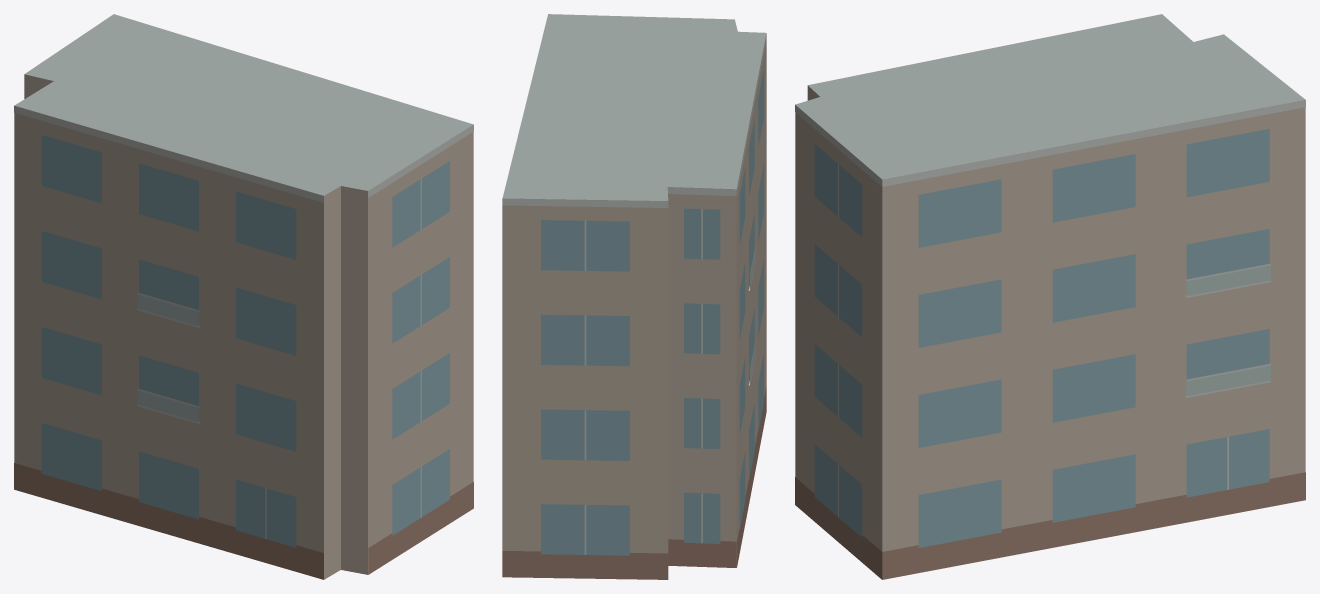
The model's file is survey-upis-32739092.glb.
3 views of the same model, side by side, from view 1: azimuth 30°, elevation 25°; view 2: azimuth 150°, elevation 25°; view 3: azimuth 270°, elevation 25° (orthographic). The views are drawn at different scales.
Visible parts, largest first — view 1: survey-upis-32739092.tmp; view 2: survey-upis-32739092.tmp; view 3: survey-upis-32739092.tmp.
Boxes of the visible parts, x1,y1,x2,y2 form: survey-upis-32739092.tmp: (14,14,473,579); survey-upis-32739092.tmp: (502,14,766,579); survey-upis-32739092.tmp: (795,14,1305,579).
Bounding box in the file's own units: 11.75 × 13.23 × 15.31.
